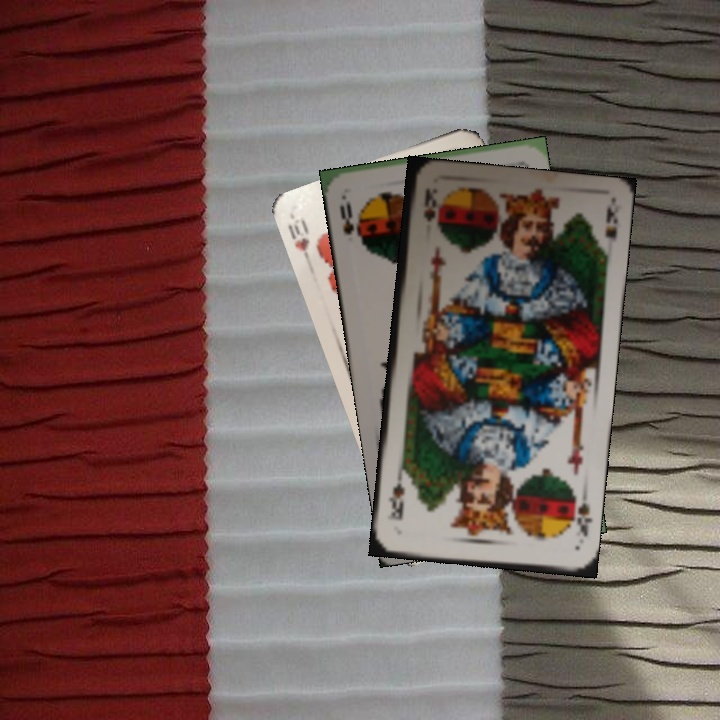H10: (283, 212, 315, 270)
SK: (565, 489, 593, 540), (419, 184, 439, 225)
SO: (335, 197, 357, 238)
